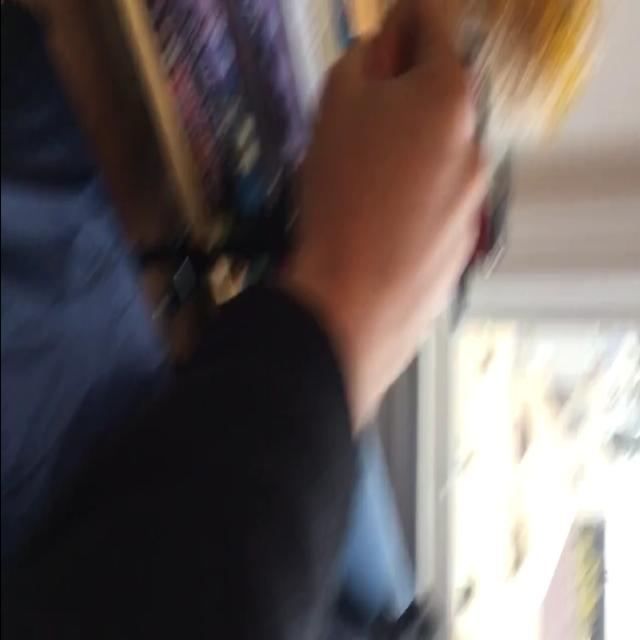Rock: (299, 0, 485, 370)
